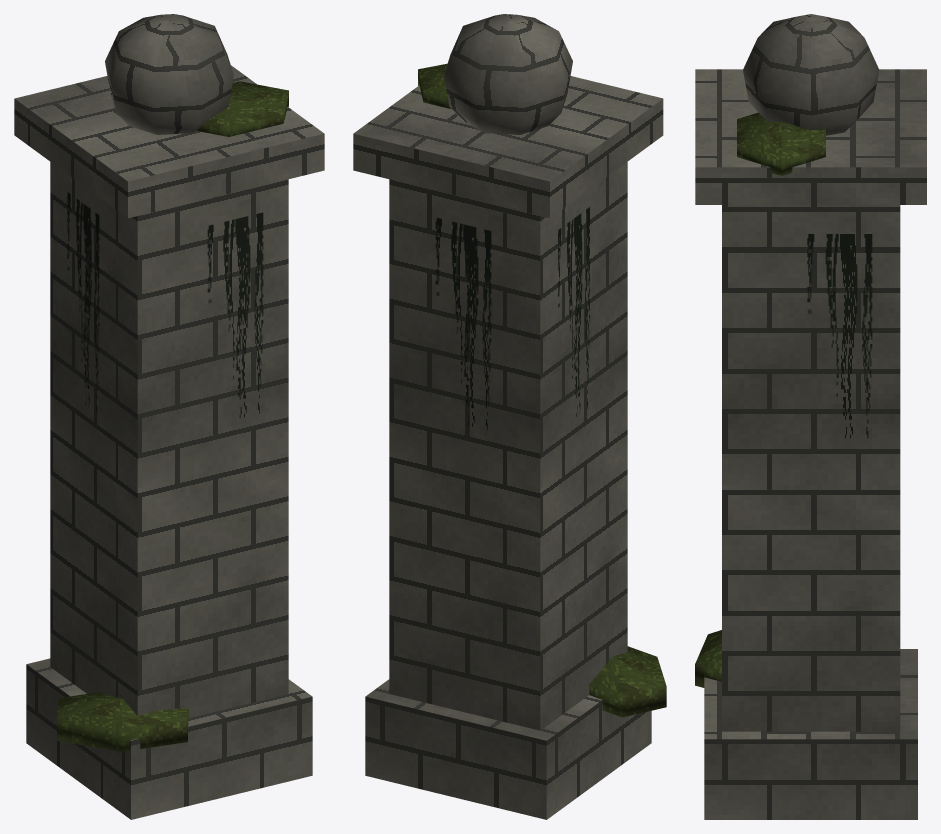
Rendered from park_pillar.glb.
The picture shows the model from 3 angles, left to right: view 1: azimuth 30°, elevation 25°; view 2: azimuth 150°, elevation 25°; view 3: azimuth 270°, elevation 25°; orthographic projection. The views are drawn at different scales.
Parts seen in each view (by area): view 1: pillar-col, detail; view 2: pillar-col, detail; view 3: pillar-col, detail.
Part boxes in pixels (x1,y1,x2,y2): pillar-col: (14,65,324,819); detail: (57,14,288,751); pillar-col: (353,76,663,819); detail: (418,14,666,717); pillar-col: (695,69,926,819); detail: (695,14,879,687).
Bounding box in the file's own units: 0.9537 × 2.8 × 0.7811.
Materials: 3 (3 with a texture image).
